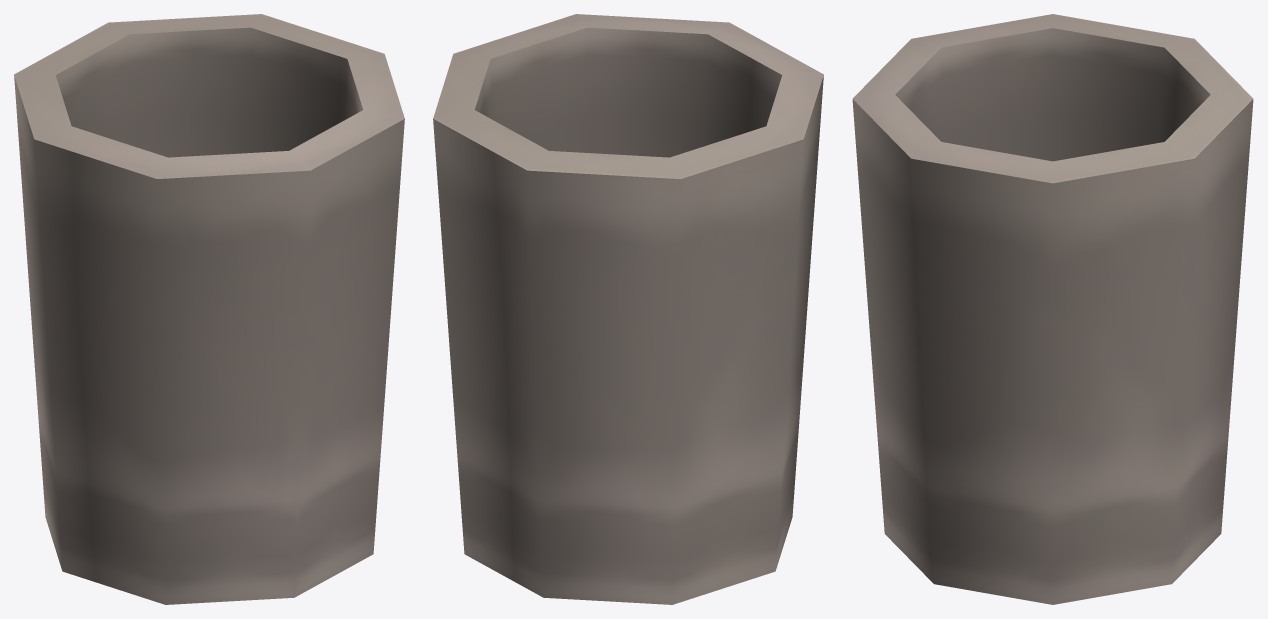
Rendered from O_Glass_A.fbx.
The picture shows the model from 3 angles, left to right: view 1: azimuth 30°, elevation 25°; view 2: azimuth 150°, elevation 25°; view 3: azimuth 270°, elevation 25°; orthographic projection.
Visible parts, largest first — view 1: O_Glass_A; view 2: O_Glass_A; view 3: O_Glass_A.
Boxes of the visible parts, left/top/right/bottom form: O_Glass_A: left=14, top=14, right=404, bottom=604; O_Glass_A: left=433, top=14, right=823, bottom=604; O_Glass_A: left=852, top=14, right=1253, bottom=604.
Size of the model in its own units: 11.59 by 14 by 11.59.
